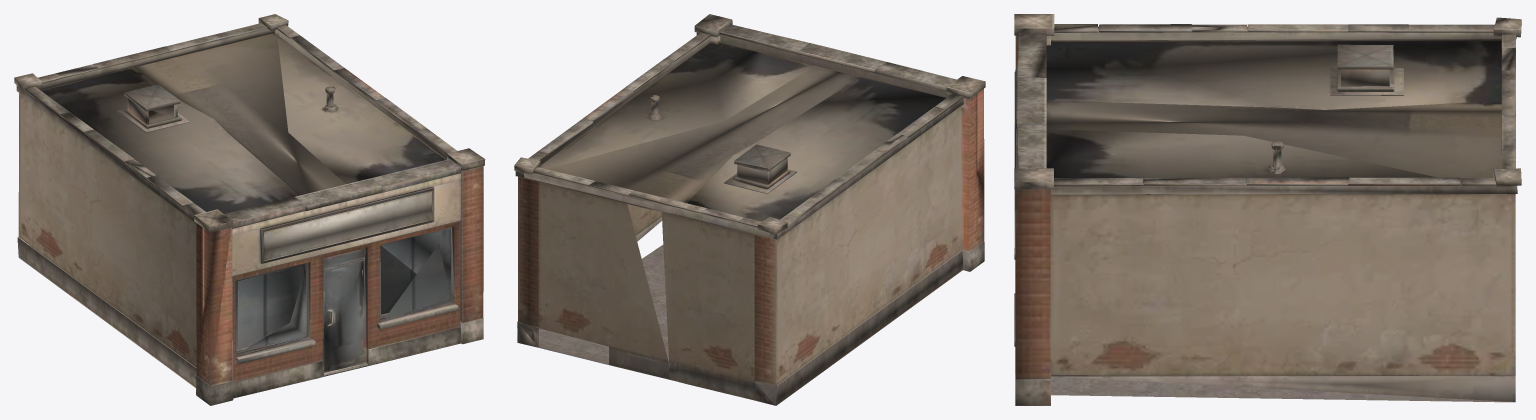
File: small-storefront.glb
The picture shows the model from 3 angles, left to right: view 1: azimuth 30°, elevation 25°; view 2: azimuth 150°, elevation 25°; view 3: azimuth 270°, elevation 25°; orthographic projection. The views are drawn at different scales.
Size of the model in its own units: 0.7485 by 0.4868 by 0.9526.
Materials: 1 (1 with a texture image).
